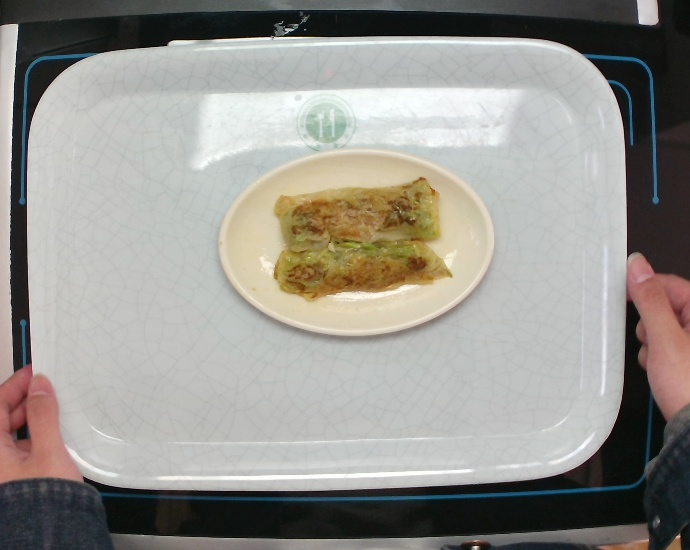JYsf-Tuo_Yuan_Wan: (210, 145, 499, 342)
